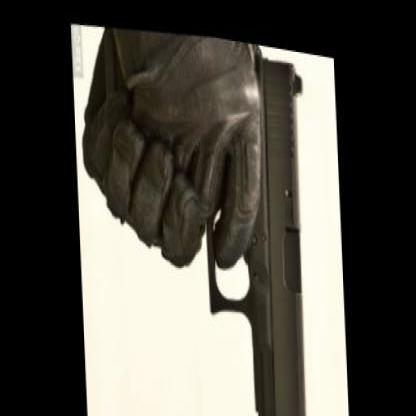pistol: (198, 27, 323, 411)
